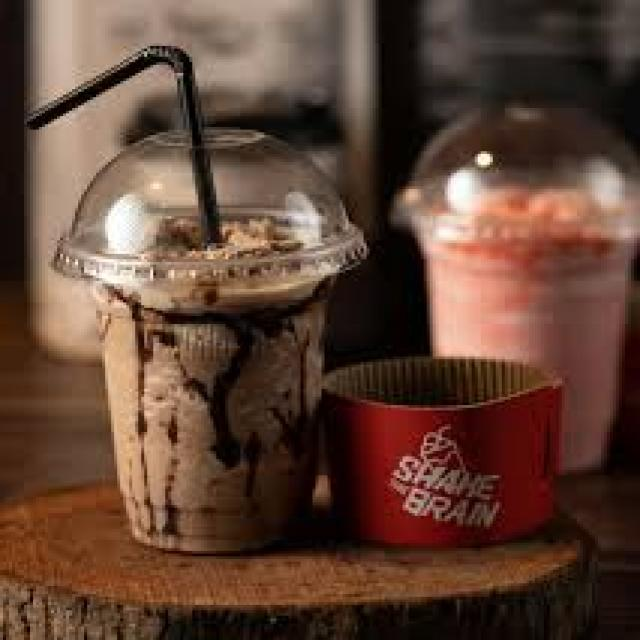cup: (36, 225, 382, 573)
